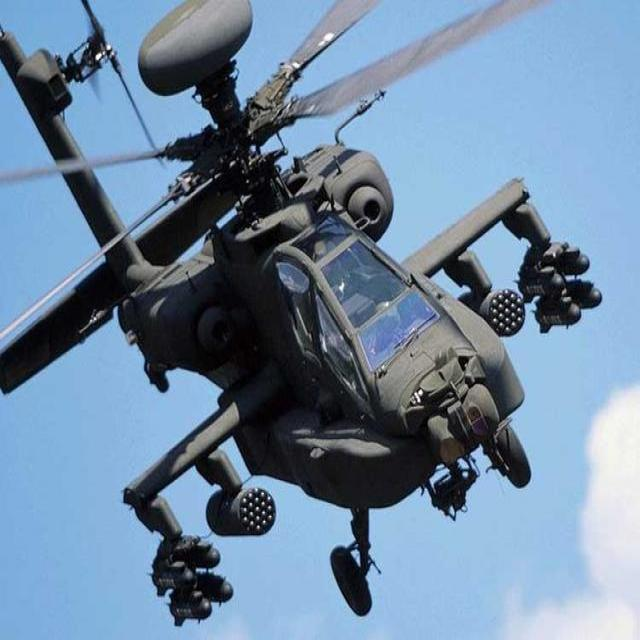MIL_HELO: (0, 5, 640, 634)
